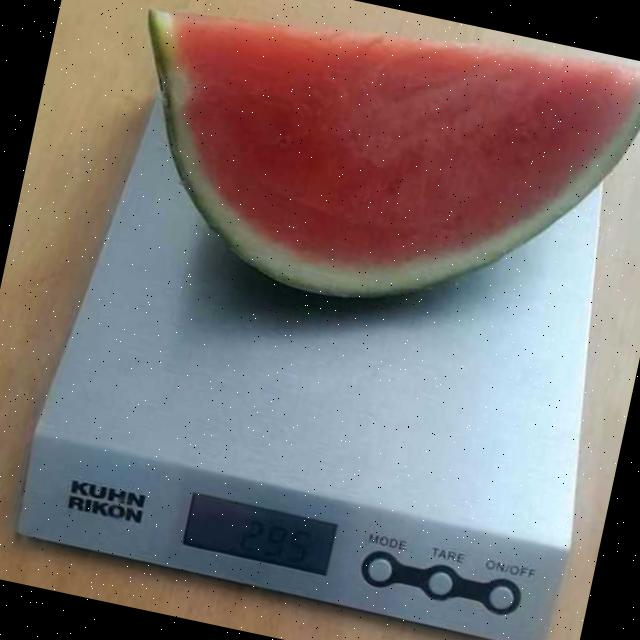watermelon-fresh: (151, 14, 640, 301)
